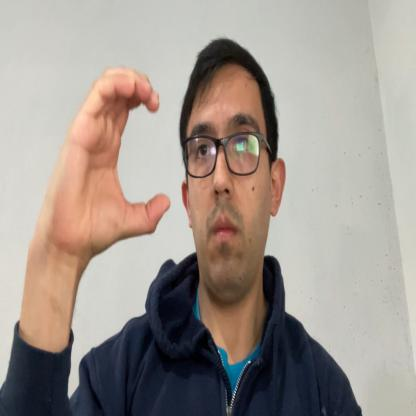C: (62, 66, 171, 254)
